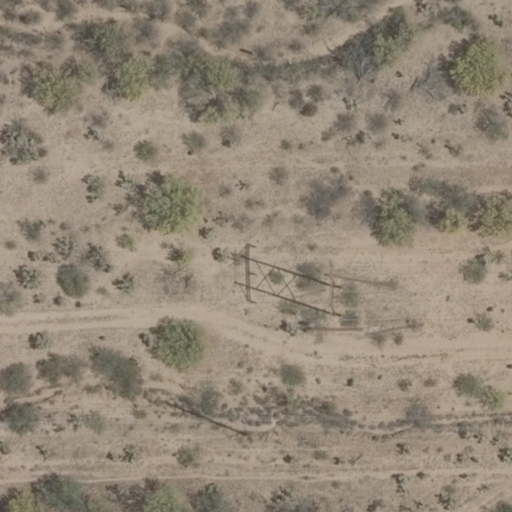DT: (315, 267, 355, 323), (231, 410, 257, 444)
